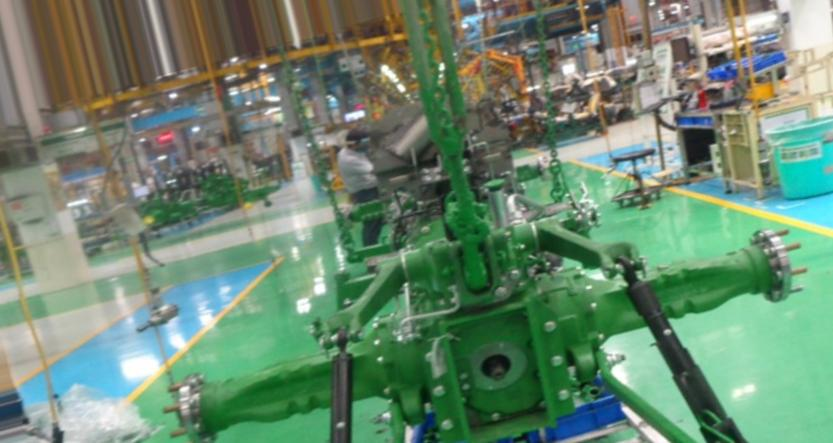engine: (160, 154, 811, 437)
